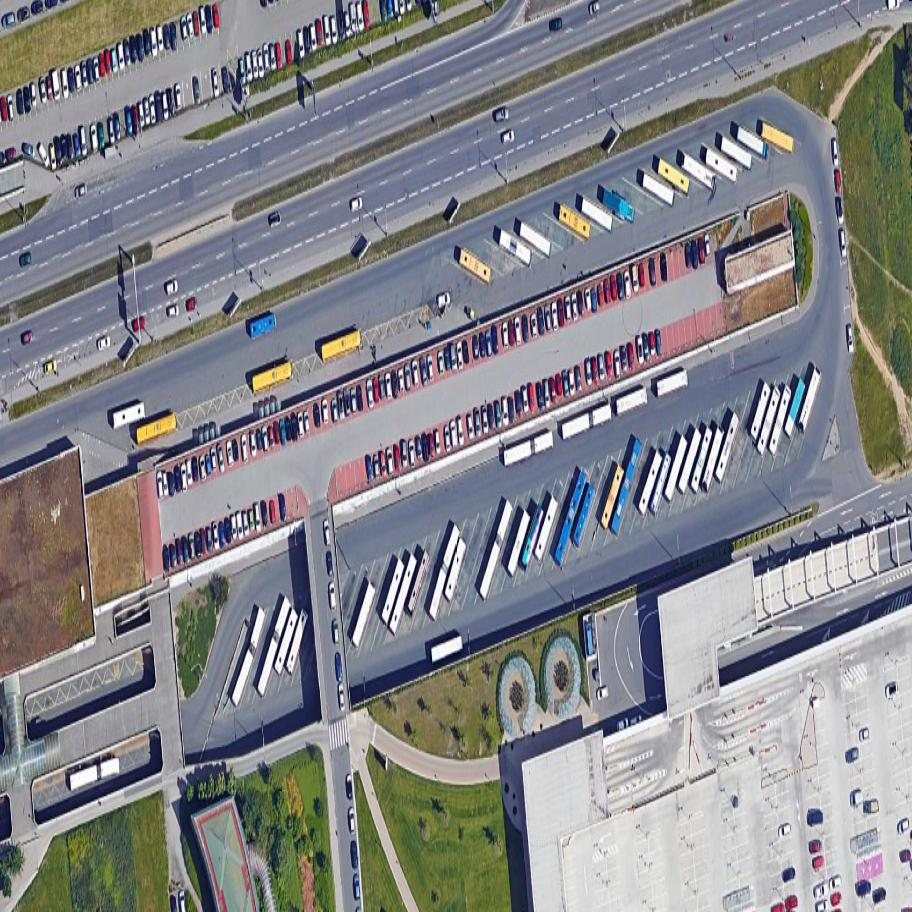large-vehicle: (254, 594, 294, 699), (476, 499, 516, 603), (228, 605, 268, 709), (607, 435, 645, 542), (551, 468, 590, 570), (426, 522, 463, 623), (386, 552, 421, 638), (497, 427, 559, 469), (556, 401, 618, 443), (711, 411, 743, 487), (530, 491, 562, 566), (635, 447, 666, 521), (64, 756, 126, 793), (348, 579, 379, 652), (795, 362, 824, 440), (377, 556, 408, 628), (661, 433, 691, 507), (754, 384, 783, 460), (517, 502, 548, 573), (673, 152, 724, 195), (675, 425, 705, 498), (766, 382, 794, 460), (271, 605, 301, 677), (403, 548, 433, 619), (598, 461, 627, 533), (283, 604, 312, 676), (571, 479, 599, 553), (451, 245, 499, 287), (504, 509, 532, 579), (697, 147, 746, 187), (699, 424, 727, 494), (130, 411, 184, 447), (688, 424, 715, 495), (647, 450, 675, 518), (781, 377, 810, 442), (550, 203, 597, 243), (635, 170, 682, 210), (492, 228, 538, 268), (316, 328, 368, 363), (651, 156, 696, 196), (513, 220, 559, 259), (730, 124, 776, 163), (247, 359, 298, 394), (747, 380, 774, 446), (443, 537, 469, 604), (574, 197, 619, 235), (596, 188, 642, 225), (755, 120, 802, 156), (715, 136, 759, 172), (425, 633, 469, 666), (108, 401, 151, 433), (611, 386, 653, 417), (652, 368, 694, 399), (245, 312, 283, 342)
small-vehicle: (34, 141, 53, 171), (868, 886, 890, 905), (95, 333, 113, 356), (53, 132, 64, 169), (892, 817, 912, 837), (39, 358, 60, 377), (811, 881, 832, 900), (779, 864, 800, 883), (781, 892, 802, 911), (348, 1, 359, 37), (841, 747, 863, 765), (50, 68, 61, 103), (130, 314, 147, 335), (20, 139, 37, 160), (854, 880, 875, 897), (116, 40, 127, 72), (136, 30, 147, 62), (336, 11, 347, 43), (211, 66, 221, 101), (168, 18, 178, 53), (614, 716, 633, 734), (603, 350, 614, 381), (181, 534, 191, 568), (174, 535, 184, 569), (861, 800, 881, 817), (347, 197, 367, 214), (336, 390, 346, 424), (244, 51, 254, 84), (256, 48, 266, 81), (235, 510, 245, 543), (253, 502, 263, 535), (845, 322, 855, 355), (365, 378, 375, 411), (79, 122, 88, 158), (18, 330, 37, 347), (204, 4, 214, 36), (221, 65, 231, 97), (314, 17, 324, 49), (635, 334, 645, 366), (322, 516, 332, 548), (500, 396, 510, 428), (418, 356, 428, 388), (364, 452, 374, 484), (71, 131, 82, 160), (1, 11, 16, 32), (323, 13, 332, 48), (334, 650, 343, 685), (166, 86, 176, 117), (106, 116, 116, 147), (6, 94, 16, 125), (835, 196, 845, 227), (349, 839, 359, 870), (390, 370, 400, 401), (260, 423, 270, 454), (535, 380, 545, 411), (385, 446, 395, 477), (277, 493, 288, 521), (165, 278, 179, 300), (297, 28, 306, 62), (356, 1, 365, 35), (217, 442, 226, 476), (473, 406, 482, 440), (826, 875, 845, 891), (72, 183, 91, 199), (546, 17, 565, 33), (594, 686, 613, 702), (65, 131, 75, 161), (241, 509, 251, 539), (217, 520, 227, 550), (849, 789, 864, 809), (355, 384, 365, 414), (337, 683, 347, 713), (148, 94, 157, 127), (173, 463, 182, 496), (641, 330, 650, 363), (839, 227, 848, 260), (273, 419, 282, 452), (490, 324, 499, 357), (379, 447, 388, 480), (457, 416, 466, 449), (89, 125, 99, 154), (260, 500, 270, 529), (436, 350, 446, 379), (251, 49, 260, 81), (192, 76, 201, 108), (113, 111, 122, 143), (142, 95, 151, 127), (211, 521, 220, 553), (194, 528, 203, 560), (130, 33, 139, 65), (591, 353, 600, 385), (613, 347, 621, 383), (627, 341, 636, 373), (209, 444, 218, 476), (240, 434, 249, 466), (455, 340, 464, 372), (884, 682, 899, 701), (631, 260, 639, 295), (162, 20, 171, 51), (143, 28, 152, 59), (150, 26, 159, 57), (15, 88, 24, 119), (690, 238, 699, 269), (831, 138, 840, 169), (342, 386, 351, 417), (384, 372, 393, 403), (484, 330, 493, 361), (449, 344, 458, 375), (426, 354, 435, 385), (61, 67, 69, 101), (807, 812, 824, 828), (2, 148, 20, 163), (200, 527, 209, 557), (309, 23, 318, 53), (48, 142, 57, 172), (67, 65, 76, 95), (45, 73, 54, 103), (123, 38, 132, 68), (39, 76, 48, 106), (29, 79, 38, 109), (574, 364, 583, 394), (584, 359, 593, 389), (537, 307, 546, 337), (628, 715, 646, 730), (312, 402, 321, 432), (331, 617, 340, 647), (225, 438, 234, 468), (328, 582, 337, 612), (296, 411, 305, 441), (411, 359, 420, 389), (478, 331, 487, 361), (436, 290, 450, 309), (199, 5, 207, 38), (155, 92, 163, 125), (274, 42, 283, 71), (637, 260, 646, 289), (576, 290, 585, 319), (647, 328, 656, 357), (378, 374, 387, 403), (325, 551, 334, 580), (487, 401, 496, 430), (521, 384, 530, 413), (428, 432, 437, 461), (548, 378, 558, 404), (624, 269, 632, 301), (557, 298, 565, 330), (655, 325, 663, 357), (543, 379, 551, 411), (408, 439, 416, 471), (394, 445, 402, 477), (165, 304, 182, 319), (180, 15, 189, 43), (186, 11, 195, 39), (268, 44, 277, 72), (174, 83, 183, 111), (224, 517, 233, 545), (169, 544, 178, 572), (620, 342, 629, 370), (493, 108, 511, 122), (499, 130, 517, 144), (352, 874, 361, 902), (528, 384, 537, 412), (449, 421, 458, 449), (238, 56, 246, 87), (125, 105, 133, 136), (304, 25, 312, 56), (230, 512, 238, 543), (156, 469, 164, 500), (162, 545, 170, 576), (616, 270, 624, 301), (514, 316, 522, 347), (551, 302, 559, 333), (562, 369, 570, 400), (494, 399, 502, 430), (404, 364, 413, 391), (462, 340, 471, 367), (162, 92, 170, 122), (132, 106, 140, 136), (188, 531, 196, 561), (180, 463, 188, 493), (660, 253, 668, 283), (564, 295, 572, 325), (568, 369, 576, 399), (350, 386, 358, 416), (291, 414, 299, 444), (481, 405, 489, 435), (444, 343, 452, 373), (778, 823, 792, 840), (185, 296, 198, 314), (263, 43, 271, 72), (97, 121, 105, 150), (138, 101, 146, 130), (162, 469, 170, 498), (74, 64, 82, 93), (23, 87, 31, 116), (684, 241, 692, 270), (610, 274, 618, 303), (544, 304, 552, 333), (330, 15, 338, 44), (344, 11, 352, 40), (348, 806, 356, 835), (372, 377, 380, 406), (192, 11, 200, 39), (60, 132, 68, 160), (167, 471, 175, 499), (191, 457, 199, 485), (704, 231, 712, 259), (531, 313, 539, 341), (571, 292, 578, 324), (590, 285, 598, 313), (331, 396, 339, 424), (279, 418, 287, 446), (415, 434, 423, 462), (598, 352, 605, 383), (250, 429, 257, 460), (93, 57, 101, 84), (199, 456, 207, 483), (345, 773, 353, 800), (268, 423, 276, 450), (398, 368, 406, 395), (507, 397, 515, 424), (434, 429, 442, 456), (829, 892, 844, 906), (649, 257, 656, 287), (522, 314, 529, 344), (322, 397, 329, 427), (269, 211, 282, 227), (808, 840, 824, 853), (812, 856, 825, 872), (466, 414, 474, 440), (18, 7, 30, 24), (81, 60, 88, 89), (444, 426, 451, 455), (86, 59, 94, 84), (285, 39, 292, 67), (186, 460, 193, 488), (105, 50, 112, 78), (698, 238, 705, 266), (508, 319, 515, 347), (473, 335, 480, 363), (19, 253, 31, 269), (232, 438, 240, 462), (284, 419, 292, 443), (249, 507, 256, 534), (111, 49, 118, 76), (157, 24, 164, 51), (502, 323, 509, 350), (422, 436, 429, 463), (402, 439, 408, 470), (269, 500, 277, 523), (604, 278, 611, 304), (585, 287, 592, 313), (835, 170, 842, 196), (899, 848, 911, 863), (255, 430, 263, 452), (205, 454, 212, 478), (303, 411, 310, 435), (515, 390, 522, 414), (214, 2, 220, 29), (207, 527, 213, 554), (597, 284, 604, 307), (859, 729, 869, 745), (556, 374, 563, 396), (373, 455, 379, 479), (99, 54, 105, 77)
